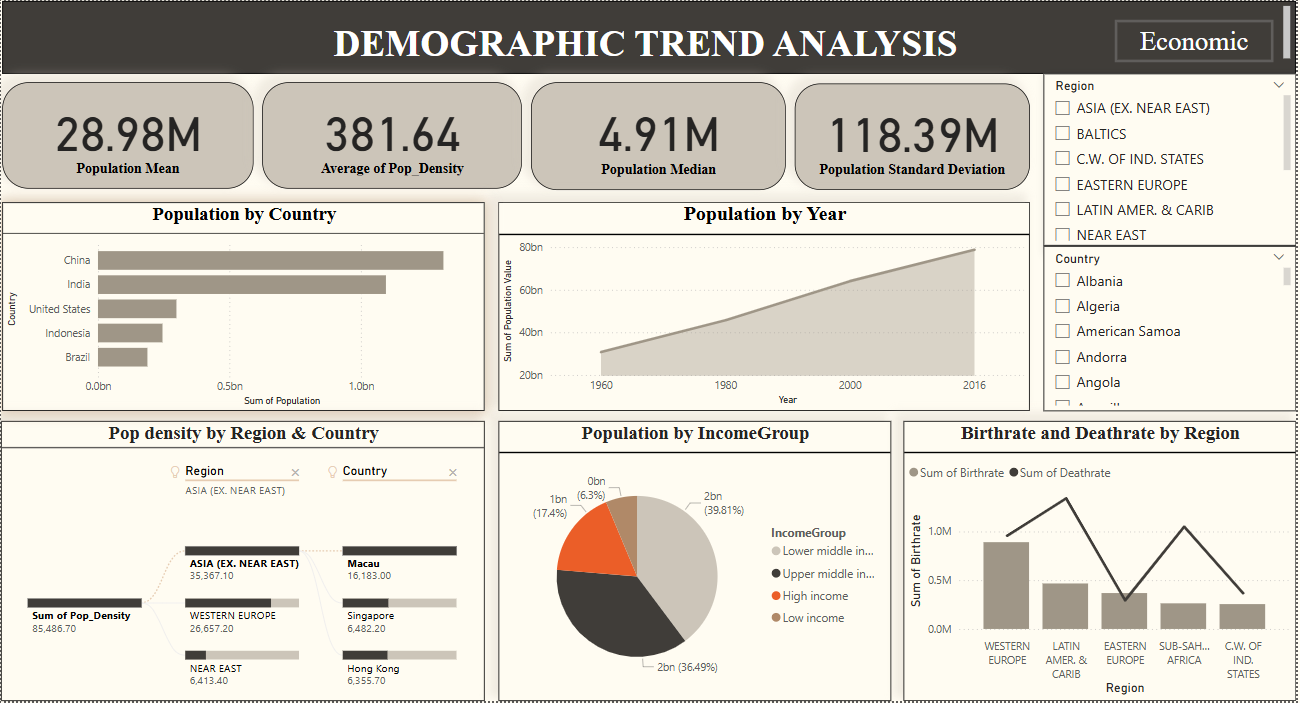

What the dashboard file says about the page in this screenshot:
{"tool":"powerbi","page":{"name":"Demographic Dashboard","canvas":[1480,800],"ordinal":1},"visuals":[{"type":"textbox","box":[1.4,0,1478.6,82.9],"z":0},{"type":"card","fields":{"Values":["Countries World.Population Mean"]},"box":[1.4,92.9,287.1,121.4],"z":1000},{"type":"card","fields":{"Values":["Avg(Countries World.Pop_Density)"]},"box":[298.6,92.9,297.1,121.4],"z":2000},{"type":"card","fields":{"Values":["Countries World.Population Median"]},"box":[605.7,92.9,291.4,122.9],"z":3000},{"type":"card","fields":{"Values":["Countries World.Population Standard Deviation"]},"box":[907.1,94.3,268.6,121.4],"z":4000},{"type":"decompositionTreeVisual","title":"Pop density by Region & Country","fields":{"Analyze":["Sum(Countries World.Pop_Density)"],"ExplainBy":["Countries World.Region","Countries World.Country"]},"box":[0,480,552.9,320],"z":5000},{"type":"pieChart","title":"Population by IncomeGroup","fields":{"Category":["MetaData Country.IncomeGroup"],"Y":["Sum(Countries World.Population)"]},"box":[568.6,480,448.6,320],"z":6000},{"type":"barChart","title":"Population by Country","fields":{"Category":["Countries World.Country"],"Y":["Sum(Countries World.Population)"]},"box":[1.4,230,551.4,238.6],"z":7000},{"type":"stackedAreaChart","title":"Population  by Year","fields":{"Y":["Sum(PopulationPerCountry.Population Value)"],"Category":["PopulationPerCountry.Year"]},"box":[568.6,230,607.1,238.6],"z":8000},{"type":"lineStackedColumnComboChart","title":"Birthrate and Deathrate by Region","fields":{"Y":["Sum(Countries World.Birthrate)"],"Y2":["Sum(Countries World.Deathrate)"],"Category":["Countries World.Region"]},"box":[1031.4,480,448.6,320],"z":9000},{"type":"slicer","fields":{"Values":["Countries World.Region"]},"box":[1191.4,82.9,288.6,197.1],"z":10000},{"type":"slicer","fields":{"Values":["Countries World.Country"]},"box":[1191.4,280,288.6,188.6],"z":11000},{"type":"actionButton","box":[1272.9,21.4,181.4,48.6],"z":12000}]}

Visuals, with their boxes in screenshot pixels (x1, y1, x2, y2), scaled from the page's 1480x800 canvas onto the 1300x703 screenshot:
textbox: x1=1, y1=0, x2=1299, y2=73
card - Countries World.Population Mean: x1=1, y1=82, x2=253, y2=188
card - Avg(Countries World.Pop_Density): x1=262, y1=82, x2=523, y2=188
card - Countries World.Population Median: x1=532, y1=82, x2=788, y2=190
card - Countries World.Population Standard Deviation: x1=797, y1=83, x2=1033, y2=190
"Pop density by Region & Country" decompositionTreeVisual: x1=0, y1=422, x2=486, y2=702
"Population by IncomeGroup" pieChart: x1=499, y1=422, x2=893, y2=702
"Population by Country" barChart: x1=1, y1=202, x2=486, y2=412
"Population  by Year" stackedAreaChart: x1=499, y1=202, x2=1033, y2=412
"Birthrate and Deathrate by Region" lineStackedColumnComboChart: x1=906, y1=422, x2=1299, y2=702
slicer - Countries World.Region: x1=1046, y1=73, x2=1299, y2=246
slicer - Countries World.Country: x1=1046, y1=246, x2=1299, y2=412
actionButton: x1=1118, y1=19, x2=1277, y2=62
